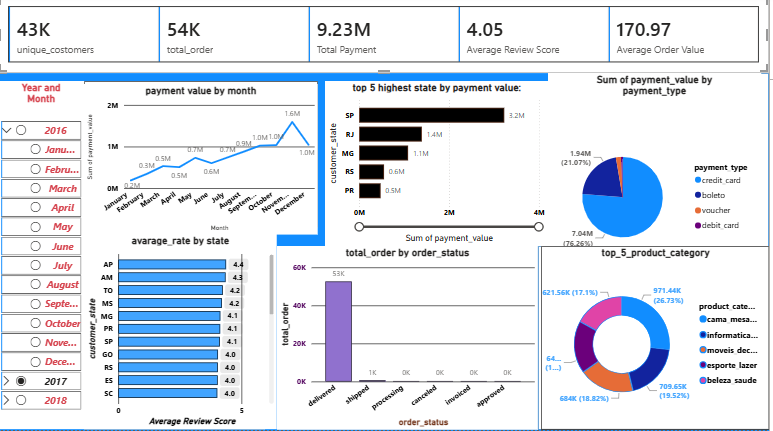

Layout of this report page (visuals, bound fields, positions):
{"tool":"powerbi","page":{"name":"Page 1","canvas":[1280,720],"ordinal":0},"visuals":[{"type":"shape","box":[543.3,141.7,370,273.3],"z":0},{"type":"cardVisual","fields":{"Data":["E_commerce_sales_analysis.unique_costomers","E_commerce_sales_analysis.total_order","E_commerce_sales_analysis.Total Payment","E_commerce_sales_analysis.Average Review Score","E_commerce_sales_analysis.Average Order Value"]},"box":[0,0,1280,127.7],"z":1000},{"type":"shape","box":[926.7,128.3,353.3,370],"z":2000},{"type":"pieChart","fields":{"Y":["Sum(E_commerce_sales_analysis.payment_value)"],"Category":["E_commerce_sales_analysis.payment_type"]},"box":[913.1,127.8,353.6,370.2],"z":3000},{"type":"clusteredBarChart","title":"top 5 highest state by payment value:","fields":{"Category":["E_commerce_sales_analysis.customer_state"],"Y":["Sum(E_commerce_sales_analysis.payment_value)"]},"box":[543.3,141.7,370,273.3],"z":4000},{"type":"shape","box":[143.3,141.7,388.3,243.3],"z":5000},{"type":"lineChart","title":"payment value by month","fields":{"Category":["E_commerce_sales_analysis.order_purchase_timestamp.Variation.Date Hierarchy.Month"],"Y":["Sum(E_commerce_sales_analysis.payment_value)"]},"box":[143.3,146.7,388.3,250],"z":6000},{"type":"shape","box":[896.7,415,370,305],"z":7000},{"type":"donutChart","title":"top_5_product_category","fields":{"Category":["E_commerce_sales_analysis.product_category_name"],"Y":["Sum(E_commerce_sales_analysis.payment_value)"]},"box":[901.5,415,378.5,305.5],"z":8000},{"type":"shape","box":[463.3,415,433.3,305],"z":9000},{"type":"clusteredColumnChart","fields":{"Category":["E_commerce_sales_analysis.order_status"],"Y":["E_commerce_sales_analysis.total_order"]},"box":[463.3,415,433.3,305],"z":10000},{"type":"listSlicer","fields":{"Values":["E_commerce_sales_analysis.order_purchase_timestamp.Variation.Date Hierarchy.Year","E_commerce_sales_analysis.order_purchase_timestamp.Variation.Date Hierarchy.Month"]},"box":[0,141.7,143.3,578.3],"z":11000},{"type":"shape","box":[142.8,398.4,300.5,322.1],"z":12000},{"type":"clusteredBarChart","title":"avarage_rate by state","fields":{"Category":["E_commerce_sales_analysis.customer_state"],"Y":["E_commerce_sales_analysis.Average Review Score"]},"box":[142.8,395.1,320.4,323.7],"z":13000}]}

Visuals, with their boxes in screenshot pixels (x1, y1, x2, y2), scaled from the page's 1280x720 canvas onto the 773x431 screenshot:
shape: [x1=328, y1=85, x2=552, y2=248]
cardVisual - E_commerce_sales_analysis.unique_costomers x E_commerce_sales_analysis.total_order: [x1=0, y1=0, x2=772, y2=76]
shape: [x1=560, y1=77, x2=772, y2=298]
pieChart - Sum(E_commerce_sales_analysis.payment_value) x E_commerce_sales_analysis.payment_type: [x1=551, y1=77, x2=765, y2=298]
"top 5 highest state by payment value:" clusteredBarChart: [x1=328, y1=85, x2=552, y2=248]
shape: [x1=87, y1=85, x2=321, y2=230]
"payment value by month" lineChart: [x1=87, y1=88, x2=321, y2=237]
shape: [x1=542, y1=248, x2=765, y2=430]
"top_5_product_category" donutChart: [x1=544, y1=248, x2=772, y2=430]
shape: [x1=280, y1=248, x2=541, y2=430]
clusteredColumnChart - E_commerce_sales_analysis.order_status x E_commerce_sales_analysis.total_order: [x1=280, y1=248, x2=541, y2=430]
listSlicer - E_commerce_sales_analysis.order_purchase_timestamp.Variation.Date Hierarchy.Year x E_commerce_sales_analysis.order_purchase_timestamp.Variation.Date Hierarchy.Month: [x1=0, y1=85, x2=87, y2=430]
shape: [x1=86, y1=238, x2=268, y2=430]
"avarage_rate by state" clusteredBarChart: [x1=86, y1=237, x2=280, y2=430]
